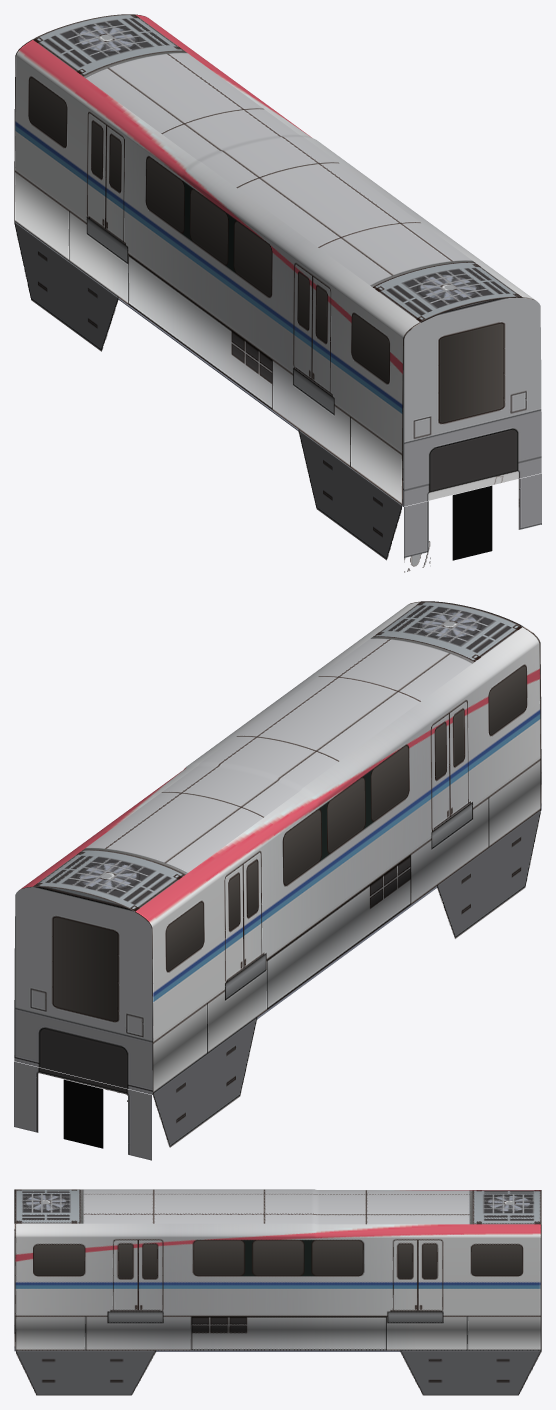
Rendered from car3.glb.
3 renders of one model, top to bottom at view 1: azimuth 30°, elevation 25°; view 2: azimuth 150°, elevation 25°; view 3: azimuth 270°, elevation 25°, orthographic. The views are drawn at different scales.
Parts seen in each view (by area): view 1: osakamono-3000-car3; view 2: osakamono-3000-car3; view 3: osakamono-3000-car3.
Boxes of the visible parts, x1=… form: osakamono-3000-car3: x1=14, y1=14, x2=541, y2=572; osakamono-3000-car3: x1=14, y1=601, x2=541, y2=1160; osakamono-3000-car3: x1=14, y1=1189, x2=541, y2=1395.
Size of the model in its own units: 2.98 by 5.17 by 14.51.
Materials: 8 (7 with a texture image).
